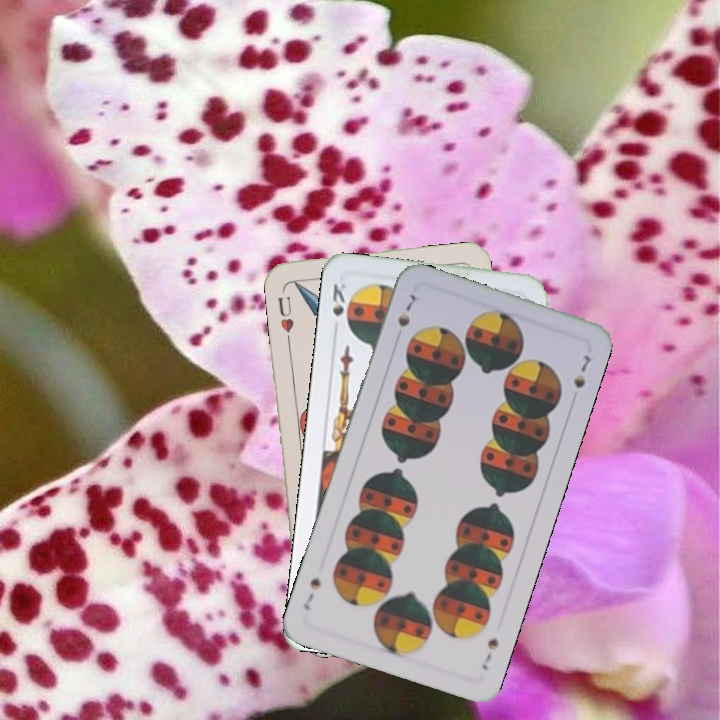HU: (274, 292, 297, 335)
S7: (393, 286, 423, 329), (476, 634, 501, 673)
SK: (328, 277, 351, 319)
